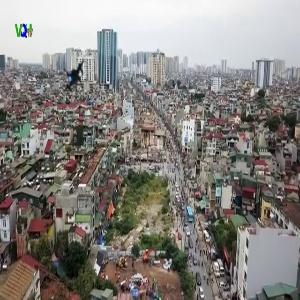drone: (54, 54, 95, 95)
